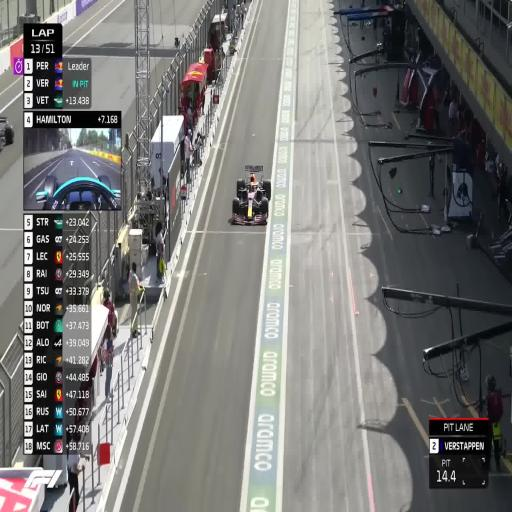f1_car: (35, 175, 121, 210), (232, 165, 271, 224), (0, 116, 13, 151)
